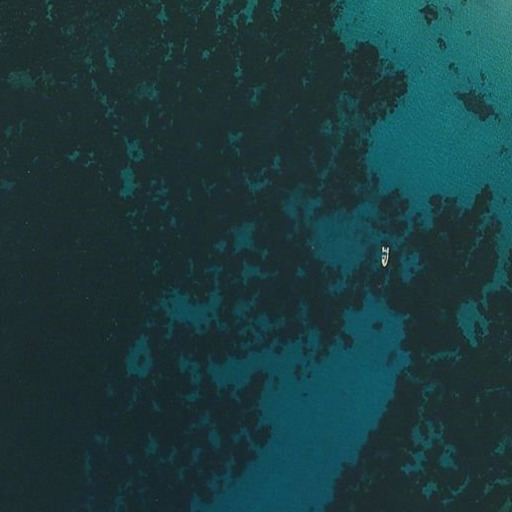ship: (379, 245, 390, 268)
